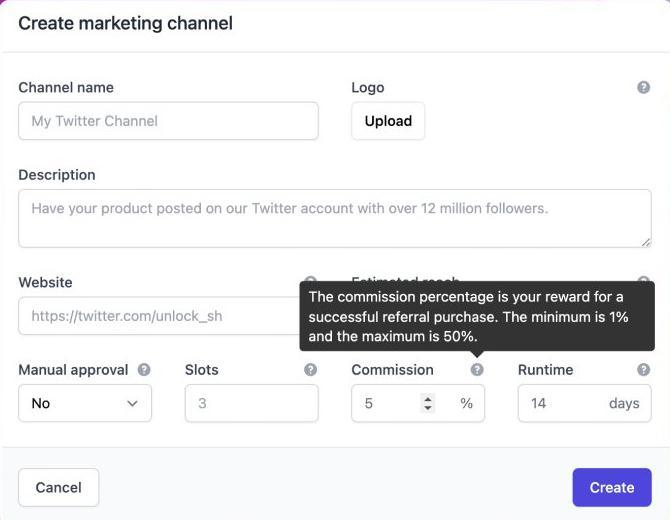button: (574, 469, 652, 509), (20, 469, 102, 507), (354, 102, 427, 140)
dropdown: (18, 386, 153, 425)
icon: (633, 77, 657, 104), (630, 362, 655, 382), (302, 361, 321, 383), (138, 359, 157, 379), (468, 362, 489, 380)
input: (21, 190, 652, 247), (18, 101, 320, 140), (20, 296, 301, 335), (520, 386, 652, 425), (188, 386, 318, 425)
label: (15, 359, 136, 379), (13, 79, 122, 98), (351, 364, 445, 382), (13, 167, 107, 183), (18, 270, 76, 293), (346, 78, 393, 98), (517, 362, 576, 376), (179, 362, 224, 379)
